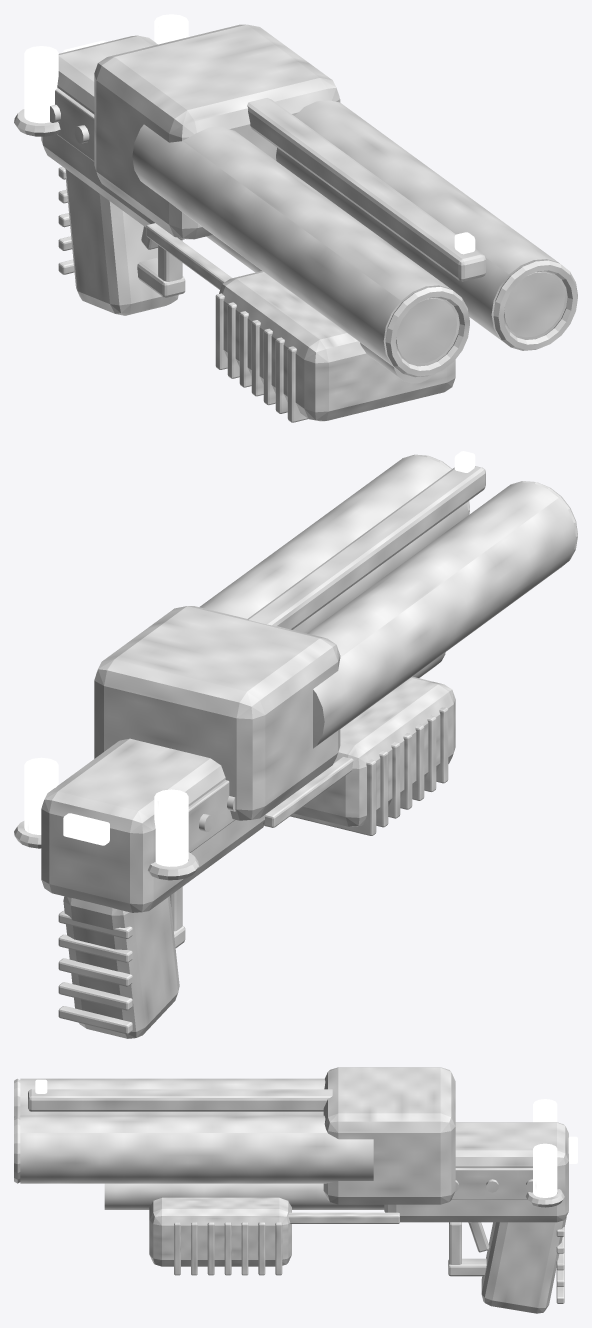
Rendered from pickup_shotgun.glb.
3 views of the same model, one above another, from view 1: azimuth 30°, elevation 25°; view 2: azimuth 150°, elevation 25°; view 3: azimuth 270°, elevation 25° (orthographic). The views are drawn at different scales.
Parts seen in each view (by area): view 1: weapon, pump; view 2: weapon, pump; view 3: weapon, pump.
Boxes of the visible parts, left/top/right/bottom form: weapon: left=14, top=14, right=577, bottom=383; pump: left=146, top=223, right=455, bottom=422; weapon: left=14, top=451, right=577, bottom=1038; pump: left=263, top=676, right=455, bottom=835; weapon: left=14, top=1067, right=577, bottom=1313; pump: left=149, top=1197, right=399, bottom=1275.
Size of the model in its own units: 0.296 by 0.4705 by 1.07.
Materials: 8 (8 with a texture image).
